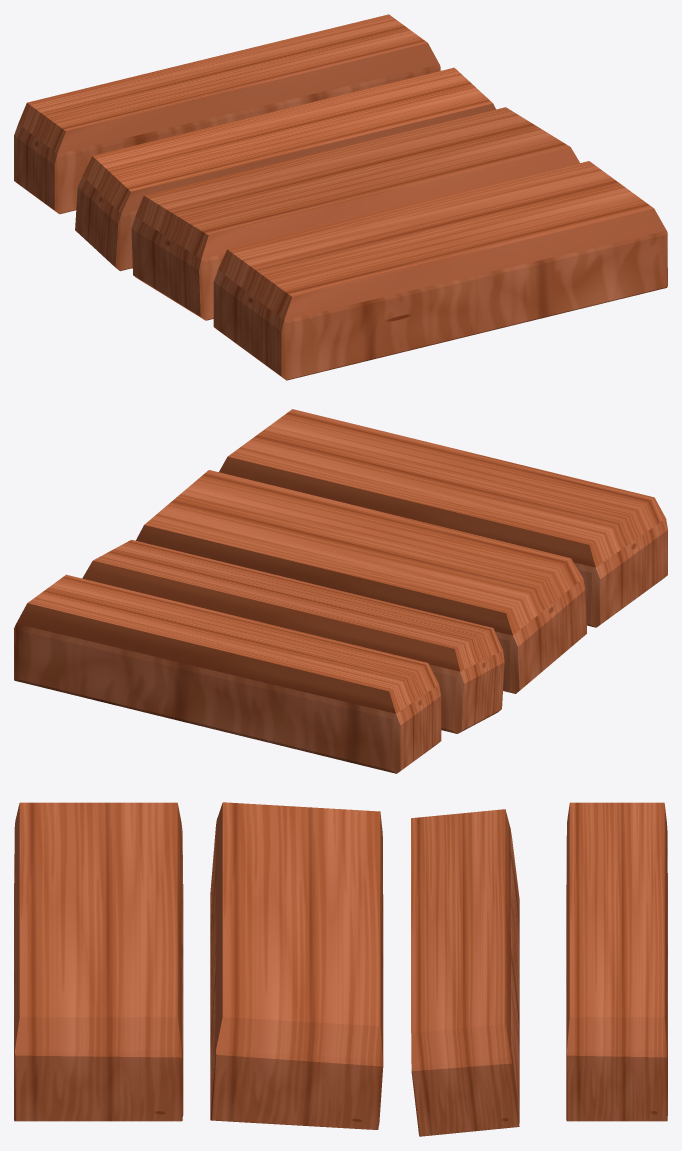
Rendered from MountainBridge.glb.
3 renders of one model, top to bottom at view 1: azimuth 30°, elevation 25°; view 2: azimuth 150°, elevation 25°; view 3: azimuth 270°, elevation 25°, orthographic. The views are drawn at different scales.
Parts seen in each view (by area): view 1: Cube.001, Cube, Cube.002, Cube.003; view 2: Cube.002, Cube, Cube.001, Cube.003; view 3: Cube, Cube.001, Cube.003, Cube.002.
Part boxes in pixels (box(x1,y1,x2,y2)): Cube.001: box(213, 161, 667, 380); Cube: box(131, 107, 579, 320); Cube.002: box(14, 14, 440, 214); Cube.003: box(75, 67, 495, 271); Cube.002: box(14, 574, 441, 773); Cube: box(136, 470, 586, 693); Cube.001: box(219, 409, 667, 627); Cube.003: box(82, 539, 504, 733); Cube: box(210, 802, 383, 1129); Cube.001: box(14, 802, 183, 1121); Cube.003: box(411, 809, 519, 1136); Cube.002: box(566, 802, 667, 1121).
Bounding box in the file's own units: 1.6 × 0.3696 × 1.93.
1 material, 1 textured.
